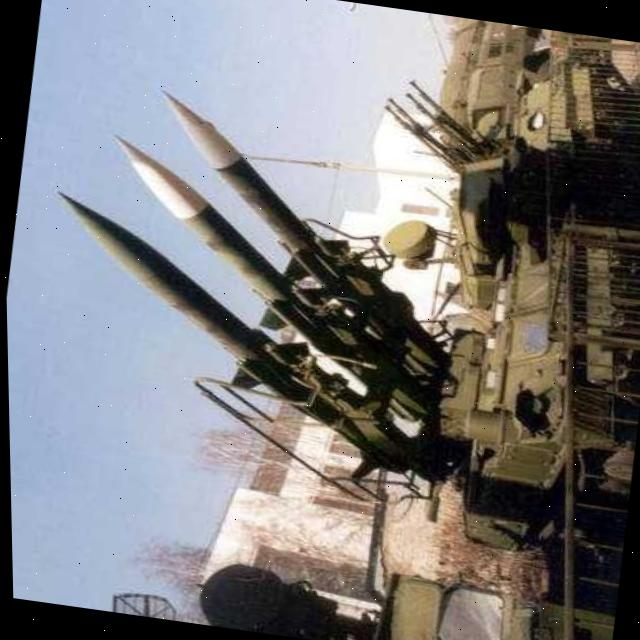missile: (14, 185, 450, 490), (70, 125, 447, 424), (121, 84, 469, 346)
